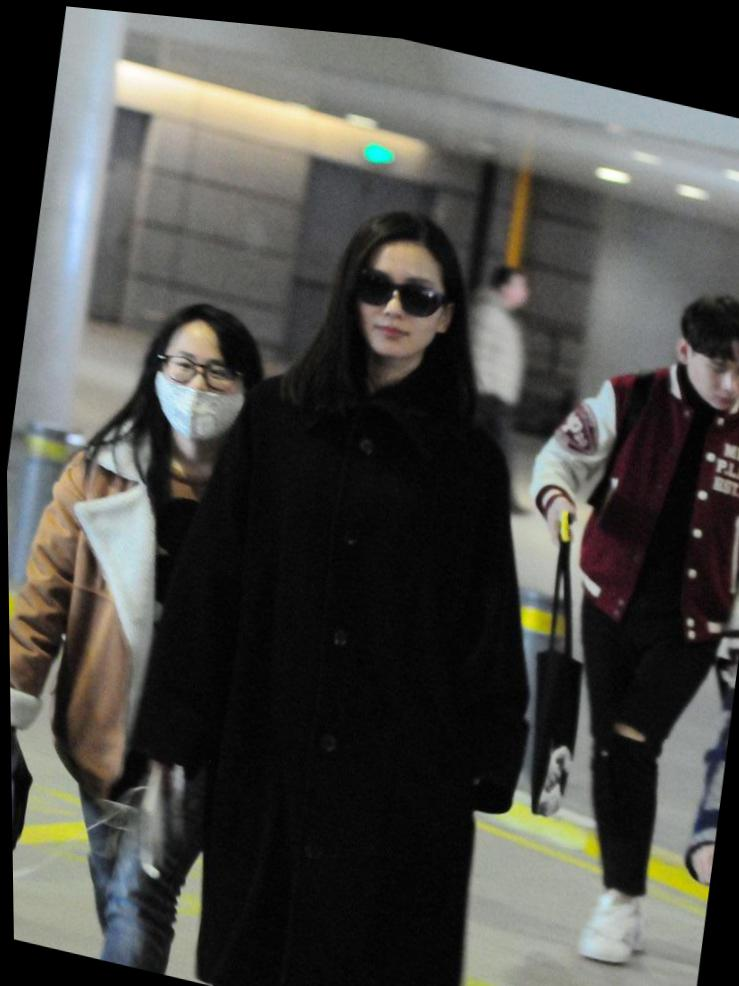NONE: (349, 248, 453, 357), (690, 323, 739, 402)
WRONG: (148, 330, 250, 439)
